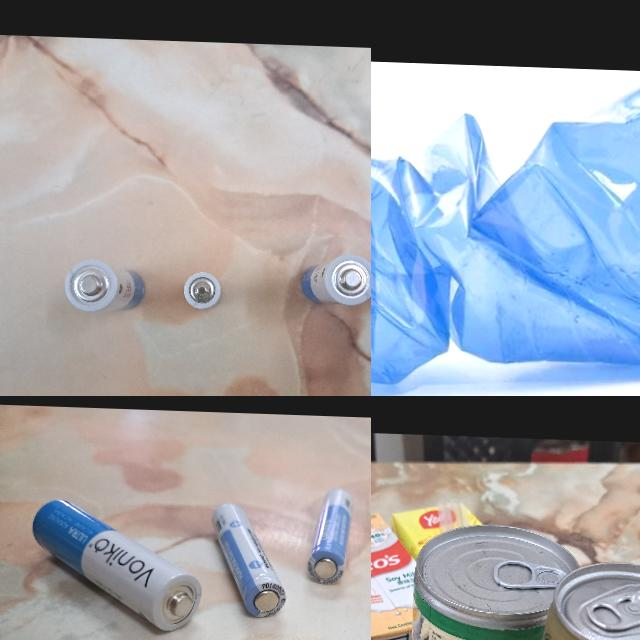aba de lata: (494, 553, 572, 594), (586, 590, 640, 636)
bateria: (30, 497, 204, 634), (208, 502, 290, 620), (305, 488, 353, 586), (64, 260, 146, 316), (301, 253, 371, 308), (182, 270, 220, 309)
caixinha: (371, 508, 428, 640), (393, 500, 485, 560)
garrafa plástica: (371, 56, 640, 396)
lata: (406, 521, 577, 640)
